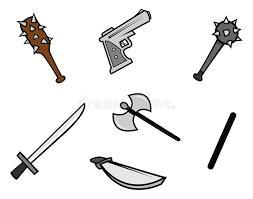Knife: (12, 100, 86, 189), (90, 154, 168, 189)
Pistol: (98, 8, 153, 74)
